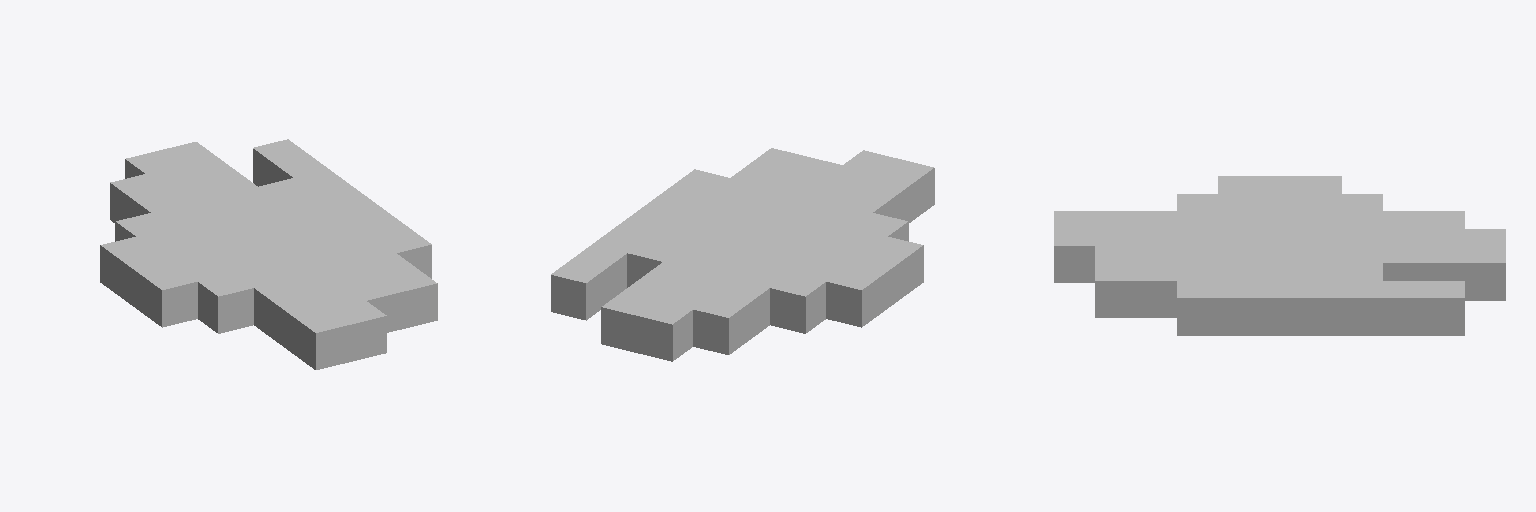
File: cloud3.obj
3 renders of one model, left to right at view 1: azimuth 30°, elevation 25°; view 2: azimuth 150°, elevation 25°; view 3: azimuth 270°, elevation 25°, orthographic.
Parts seen in each view (by area): view 1: Cube.053_Cube.222; view 2: Cube.053_Cube.222; view 3: Cube.053_Cube.222.
Part boxes in pixels (x1,y1,x2,y2): Cube.053_Cube.222: (100, 139, 437, 369); Cube.053_Cube.222: (551, 148, 934, 361); Cube.053_Cube.222: (1054, 176, 1505, 335).
Size of the model in its own units: 14 by 2 by 22.